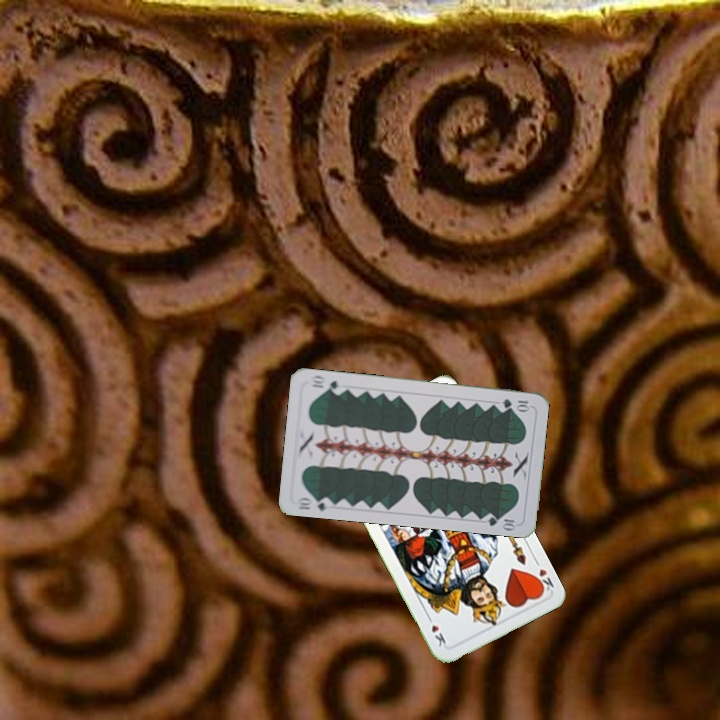G10: (293, 493, 334, 513), (499, 395, 532, 412)
HK: (530, 555, 556, 596)
